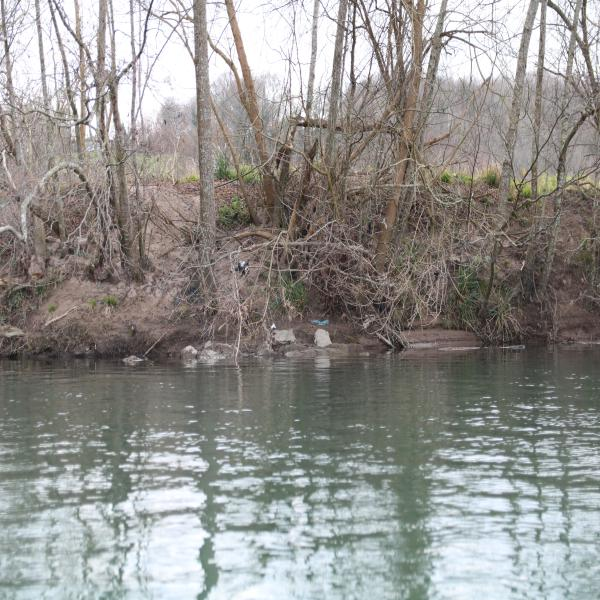fragments: (311, 318, 328, 325), (271, 323, 276, 327)
